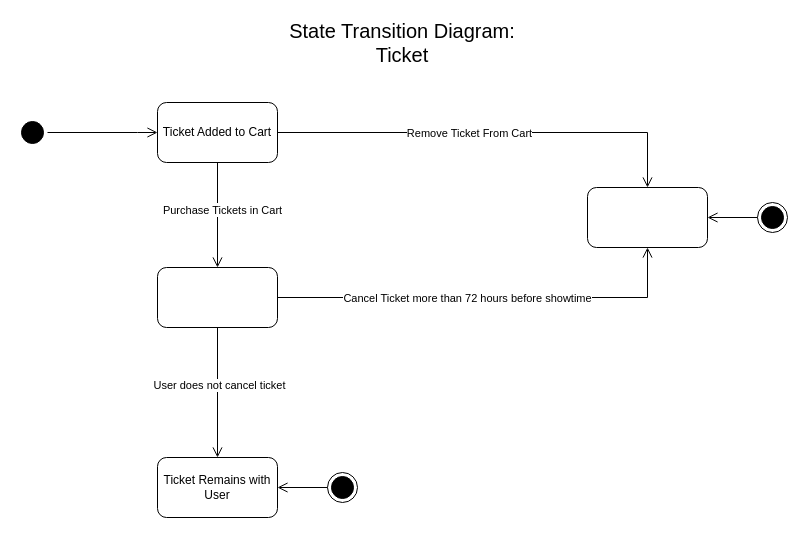
Some shapes in this 805 by 535 pixel diagram are drawn without their labels. The shapes that lost their labels are listed below. From the top down, each one's centre as x and y in pixels, then its label:
(x=647, y=217): Delete Ticket
(x=217, y=297): Ticket Transferred to User
